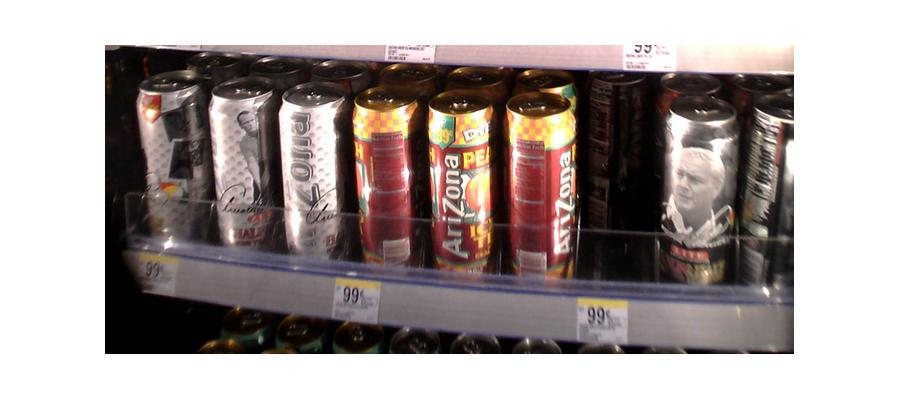bottle: (505, 92, 578, 282), (665, 92, 735, 289), (350, 88, 419, 272), (426, 94, 494, 279), (277, 86, 343, 265), (140, 72, 205, 248), (209, 80, 274, 255), (588, 70, 646, 251), (747, 97, 793, 298)
